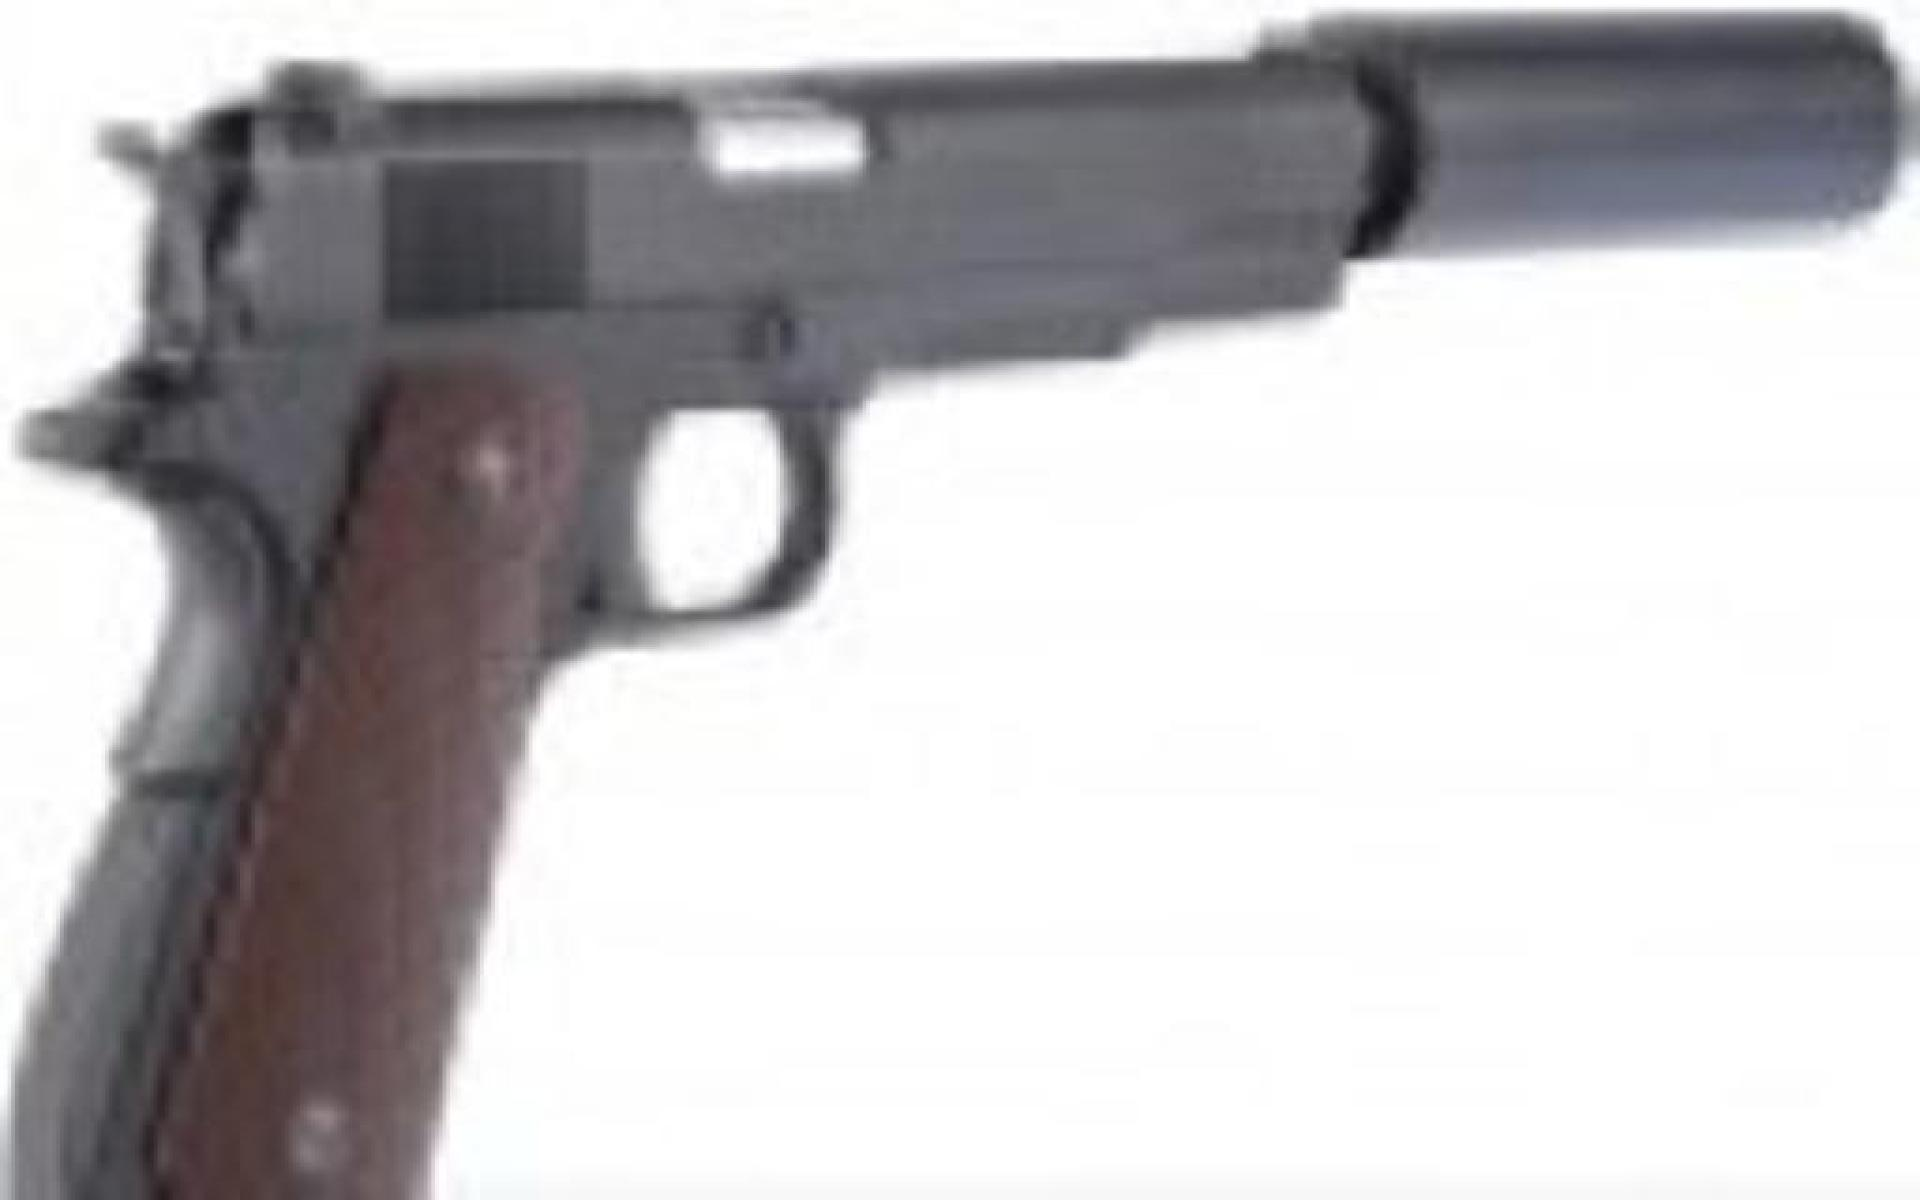gun: (7, 7, 1879, 1186)
